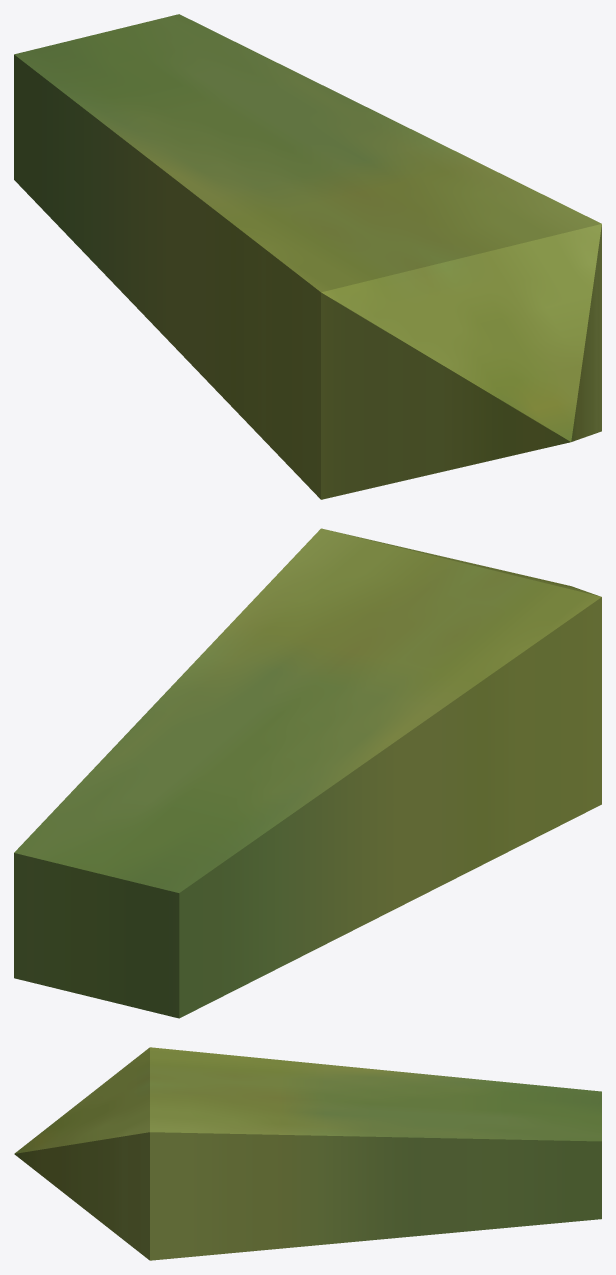
File: WF_BOXLOD.obj
3 renders of one model, top to bottom at view 1: azimuth 30°, elevation 25°; view 2: azimuth 150°, elevation 25°; view 3: azimuth 270°, elevation 25°, orthographic. The views are drawn at different scales.
Visible parts, largest first — view 1: Node 0; view 2: Node 0; view 3: Node 0.
Part boxes in pixels (bbox=[...]): Node 0: bbox=[14, 14, 601, 499]; Node 0: bbox=[14, 528, 601, 1018]; Node 0: bbox=[14, 1047, 601, 1260].
Bounding box in the file's own units: 0.68 × 0.48 × 1.99.
Materials: 1 (1 with a texture image).
